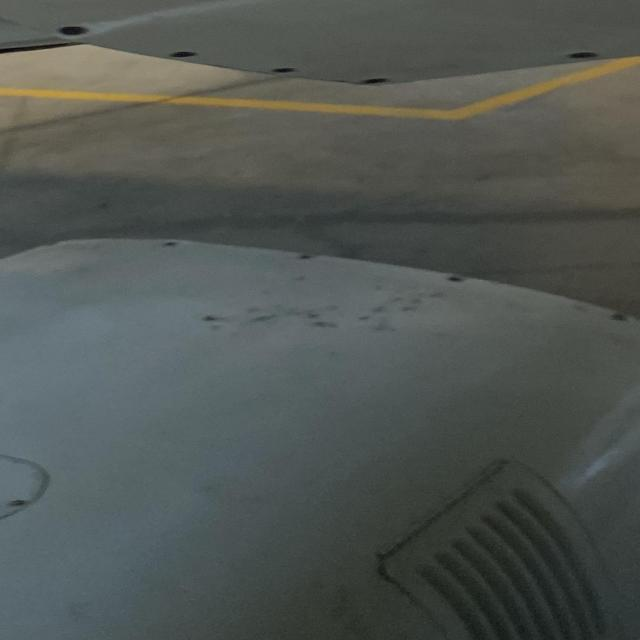Missing-head: (56, 27, 87, 37), (168, 49, 196, 60), (359, 76, 390, 85), (270, 67, 295, 75)
